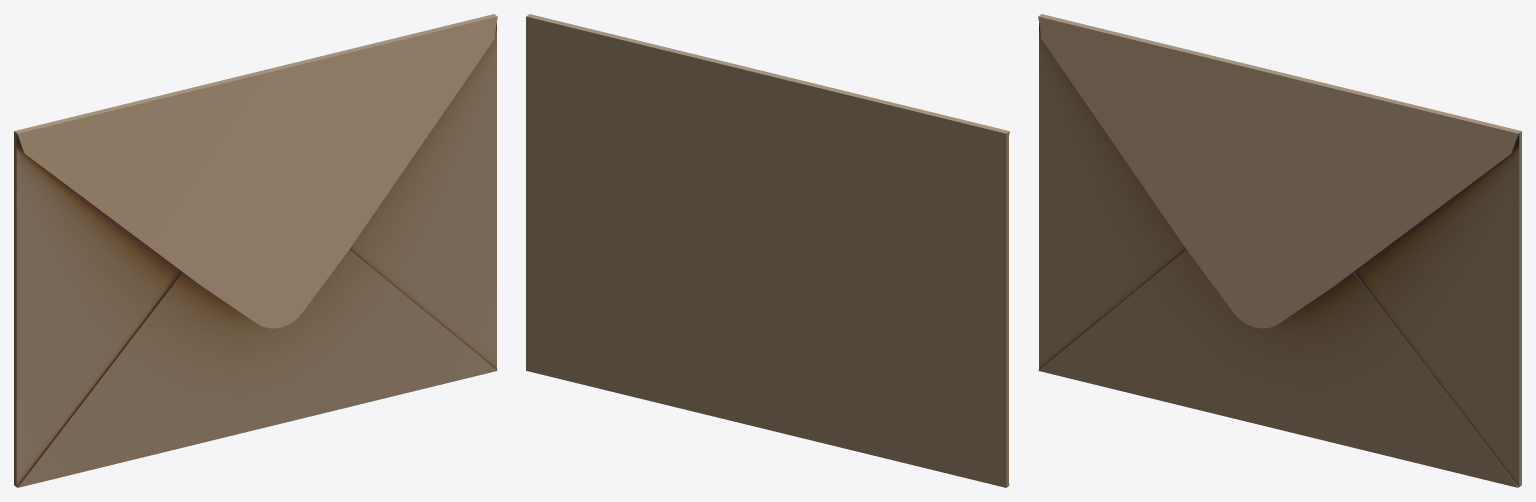
The model's file is Envelope.glb.
3 views of the same model, side by side, from view 1: azimuth 30°, elevation 25°; view 2: azimuth 150°, elevation 25°; view 3: azimuth 330°, elevation 25° (orthographic).
Parts seen in each view (by area): view 1: envelope.1; view 2: envelope.1; view 3: envelope.1.
Part boxes in pixels (left/top/right/bottom): envelope.1: left=14, top=14, right=497, bottom=487; envelope.1: left=526, top=14, right=1009, bottom=487; envelope.1: left=1038, top=14, right=1521, bottom=487.
Bounding box in the file's own units: 0.307 × 0.2164 × 0.0293.
1 material, 1 textured.
